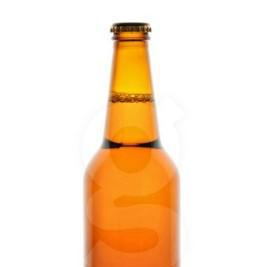beer: (81, 21, 180, 267)
